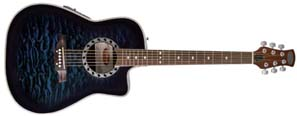guitar: (5, 3, 296, 114)
